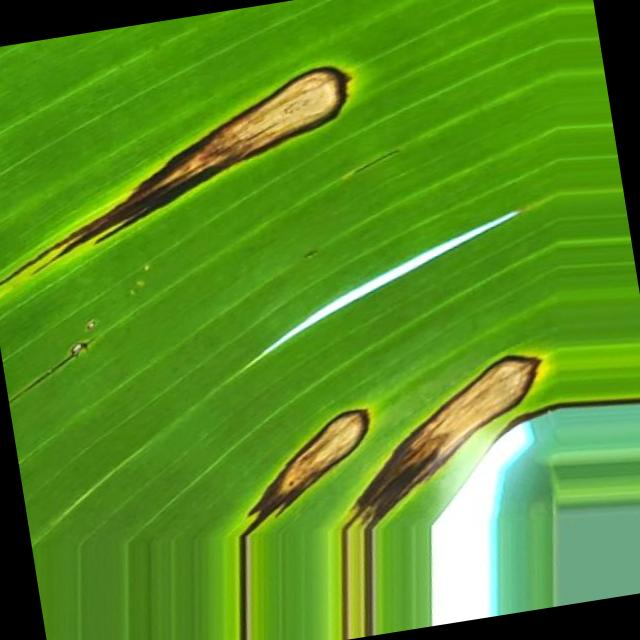Banana_Black_Sigatoka: (208, 325, 626, 601), (56, 29, 391, 274)
